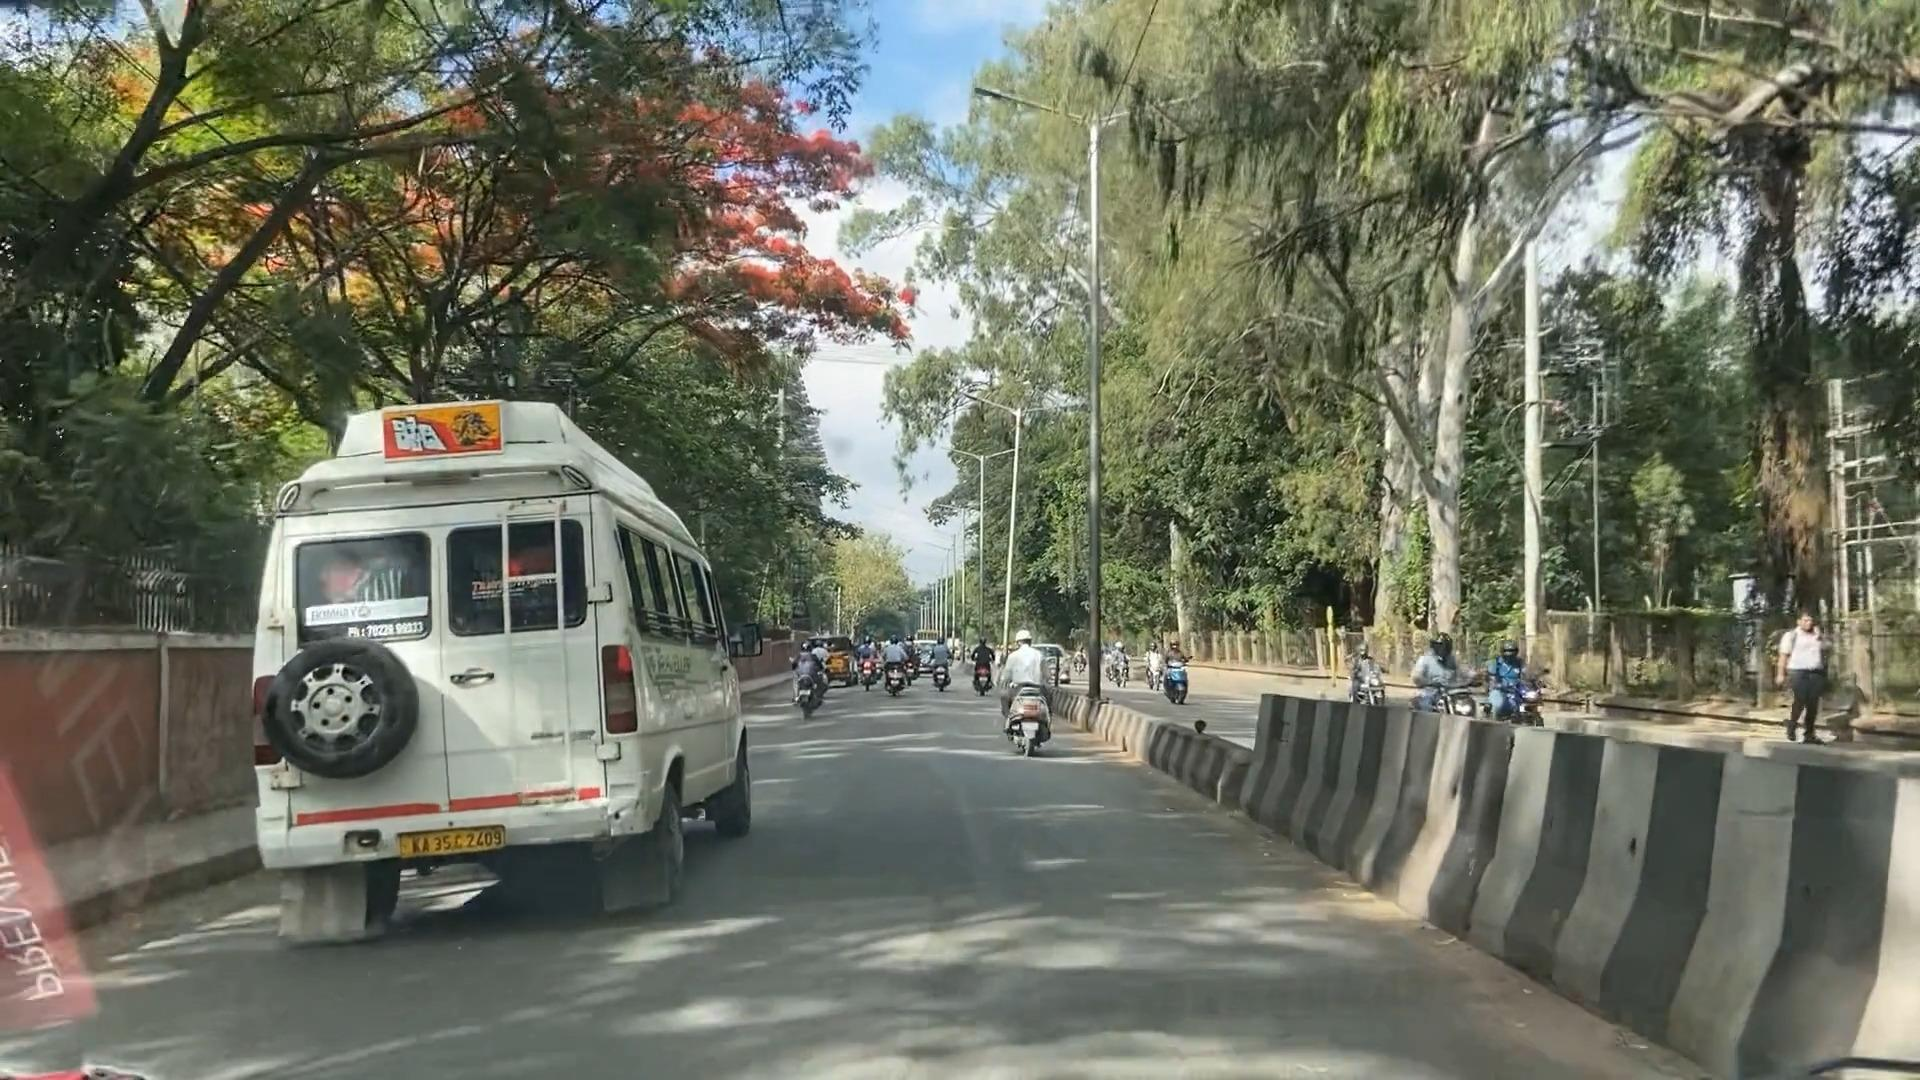HMV: (256, 454, 646, 887)
LMV: (1002, 616, 1048, 756), (790, 632, 828, 711), (884, 626, 910, 702), (930, 628, 956, 691)
